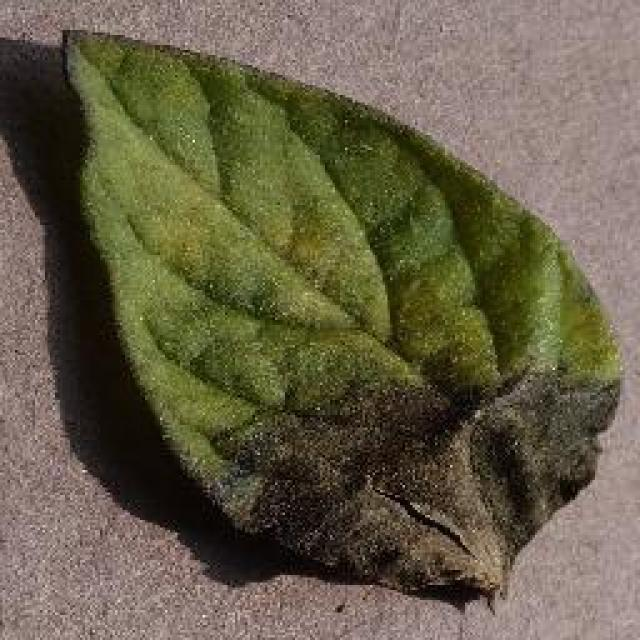Tomato late blight leaf: (65, 27, 625, 606)
